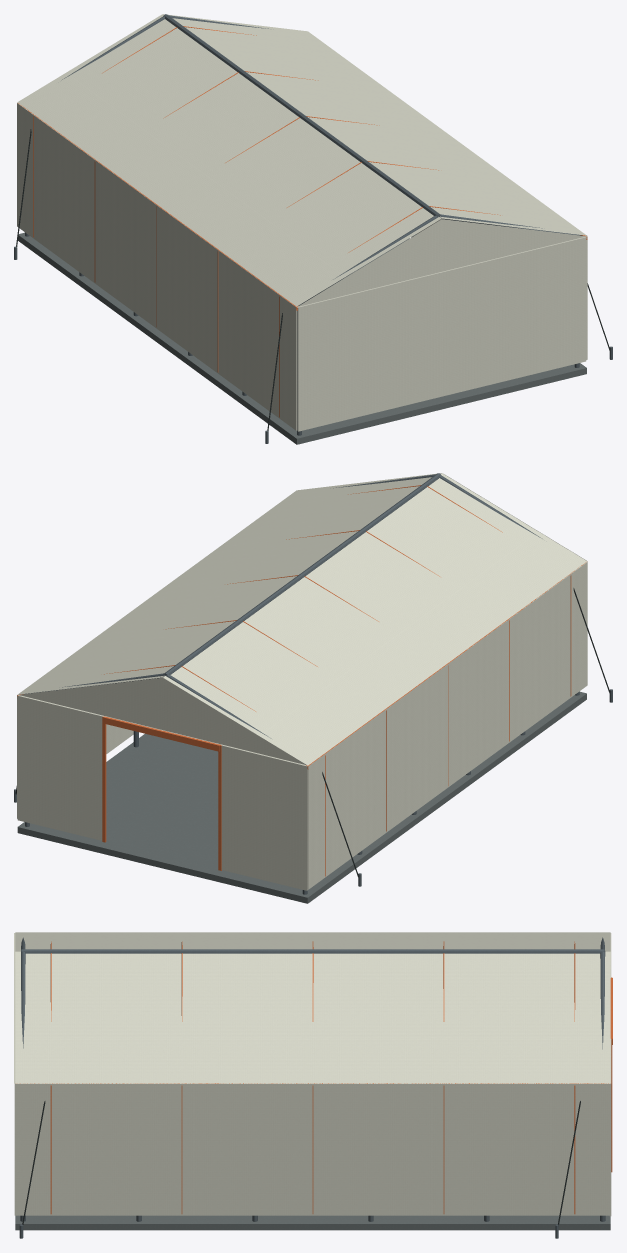
3 renders of one model, top to bottom at view 1: azimuth 30°, elevation 25°; view 2: azimuth 150°, elevation 25°; view 3: azimuth 270°, elevation 25°, orthographic. The views are drawn at different scales.
Visible parts, largest first — view 1: VIS_Roof_Canvas_Outer, VIS_Wall_BackPanel, VIS_Wall_SideFabric, VIS_Roof_Canvas_Inner, VIS_Gable_Fabric_01, VIS_Deck_Walkable, VIS_Frame_Ridge; view 2: VIS_Roof_Canvas_Outer, VIS_Wall_SideFabric, VIS_Roof_Canvas_Inner, VIS_Deck_Walkable, VIS_Wall_FrontSide, VIS_Wall_FrontSide_01, VIS_Gable_Fabric, VIS_Frame_Ridge, VIS_Entry_Header, VIS_Wall_SideFabric_01, VIS_Entry_TapedEdge_01; view 3: VIS_Wall_SideFabric_01, VIS_Roof_Canvas_Inner, VIS_Roof_Canvas_Outer, VIS_Deck_Walkable, VIS_Frame_Ridge, VIS_Wall_BackPanel.
Part boxes in pixels (x1=…): VIS_Roof_Canvas_Outer: x1=17, y1=14, x2=441, y2=306; VIS_Wall_BackPanel: x1=297, y1=237, x2=586, y2=431; VIS_Wall_SideFabric: x1=17, y1=103, x2=297, y2=430; VIS_Roof_Canvas_Inner: x1=163, y1=14, x2=586, y2=235; VIS_Gable_Fabric_01: x1=297, y1=219, x2=587, y2=307; VIS_Deck_Walkable: x1=18, y1=232, x2=586, y2=444; VIS_Frame_Ridge: x1=163, y1=14, x2=440, y2=216; VIS_Roof_Canvas_Outer: x1=163, y1=473, x2=586, y2=765; VIS_Wall_SideFabric: x1=307, y1=562, x2=587, y2=889; VIS_Roof_Canvas_Inner: x1=17, y1=473, x2=441, y2=694; VIS_Deck_Walkable: x1=17, y1=691, x2=586, y2=903; VIS_Wall_FrontSide: x1=221, y1=745, x2=307, y2=890; VIS_Wall_FrontSide_01: x1=17, y1=695, x2=103, y2=840; VIS_Gable_Fabric: x1=19, y1=677, x2=306, y2=765; VIS_Frame_Ridge: x1=163, y1=473, x2=440, y2=675; VIS_Entry_Header: x1=103, y1=716, x2=220, y2=751; VIS_Wall_SideFabric_01: x1=17, y1=695, x2=133, y2=818; VIS_Entry_TapedEdge_01: x1=102, y1=716, x2=106, y2=842; VIS_Wall_SideFabric_01: x1=15, y1=1083, x2=610, y2=1215; VIS_Roof_Canvas_Inner: x1=15, y1=951, x2=610, y2=1083; VIS_Roof_Canvas_Outer: x1=15, y1=932, x2=610, y2=951; VIS_Deck_Walkable: x1=15, y1=1215, x2=610, y2=1230; VIS_Frame_Ridge: x1=21, y1=949, x2=604, y2=953; VIS_Wall_BackPanel: x1=14, y1=934, x2=15, y2=1215.
Size of the model in its own units: 7.18 by 3.81 by 10.07.
5 materials, 5 textured.
